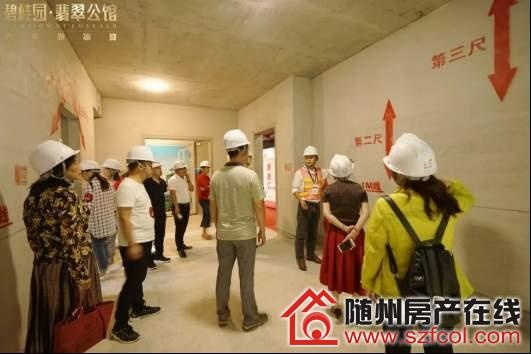white: (381, 131, 439, 188), (29, 140, 80, 182), (221, 128, 251, 165), (125, 145, 154, 179), (328, 152, 353, 182), (301, 143, 320, 168), (79, 158, 100, 180), (100, 158, 121, 179), (172, 159, 188, 177), (149, 159, 162, 179), (199, 159, 210, 173)
